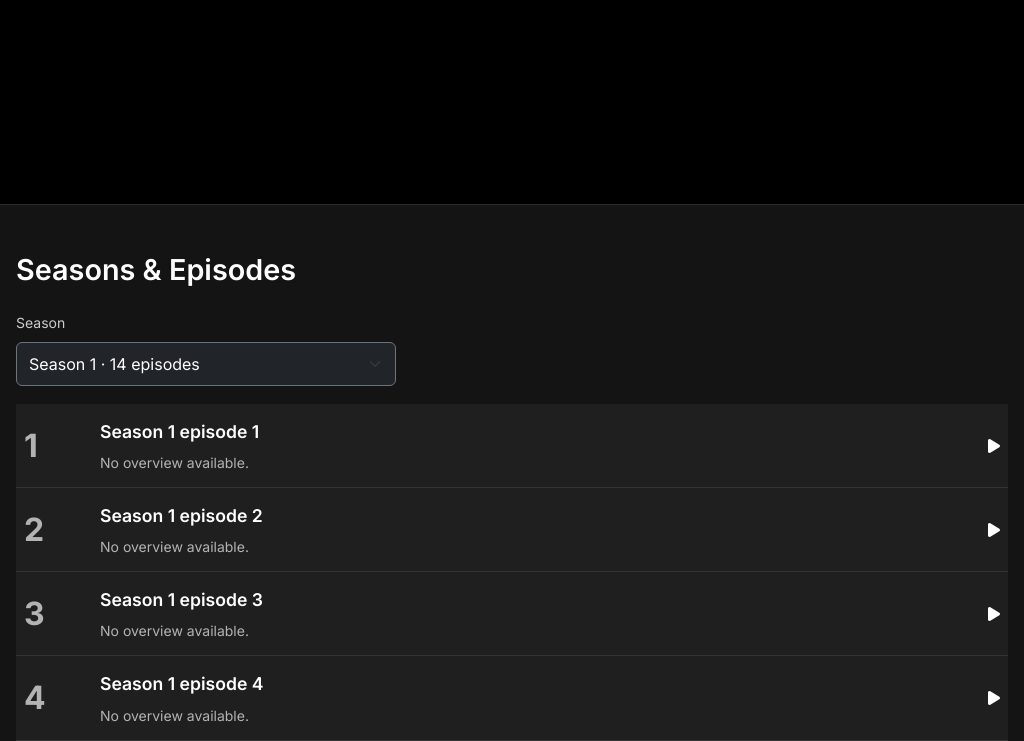
it: failed season request offers retry instead of an endless loading state
(page scrolled)
Expected: the button "1 Season 1 episode 1 No overview available." is shown, [16,404,1008,488]
Select "Season 2 · 14 episodes" in the dropdown labelled "Season": coordinates (206, 364) [16,342,396,386]
(page scrolled)
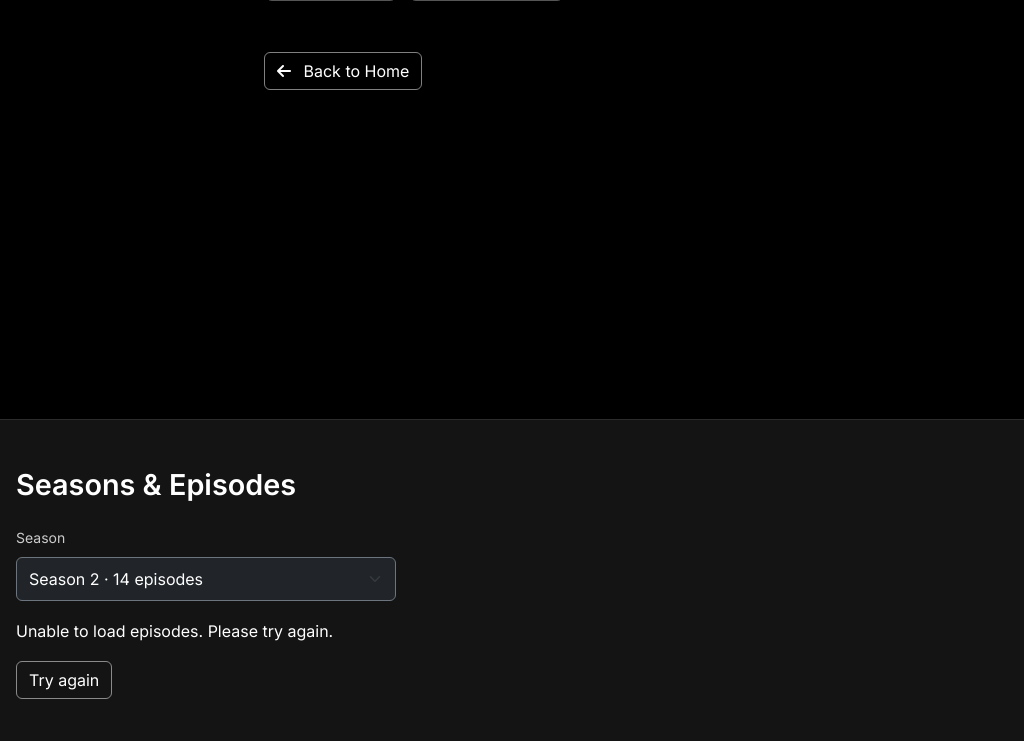
Expected: the text "Unable to load episodes. Please try again." is shown, [16,621,333,641]
Click the button "Try again": coordinates (64, 680) [16,660,112,698]
(page scrolled)
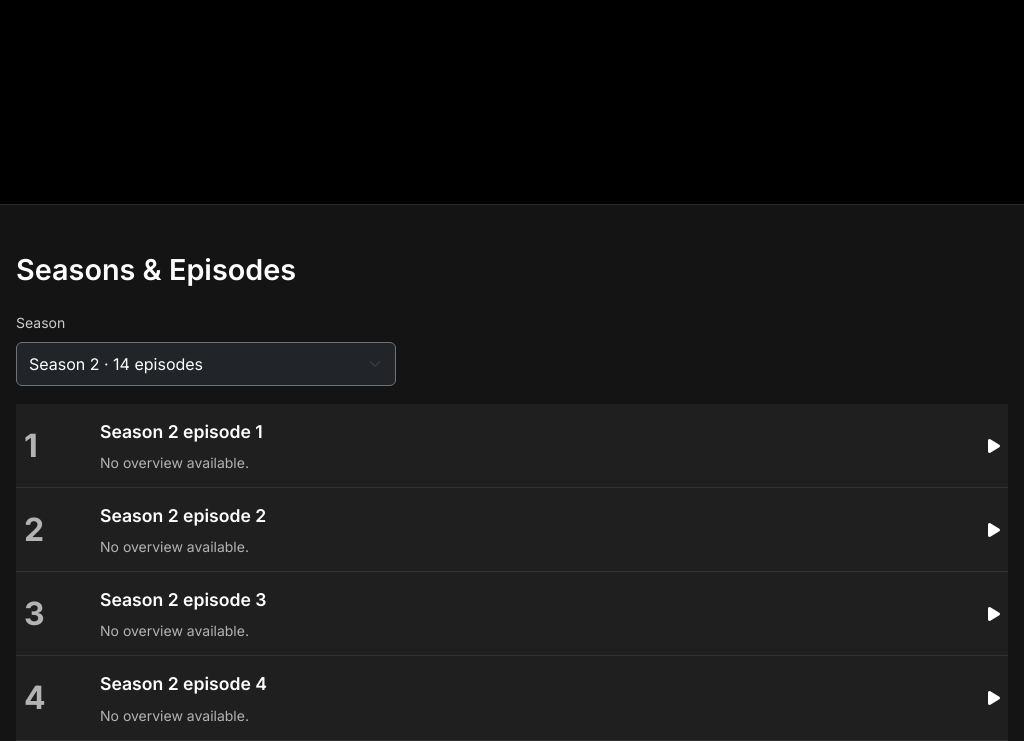
Expected: the button "1 Season 2 episode 1 No overview available." is shown, [16,404,1008,488]
